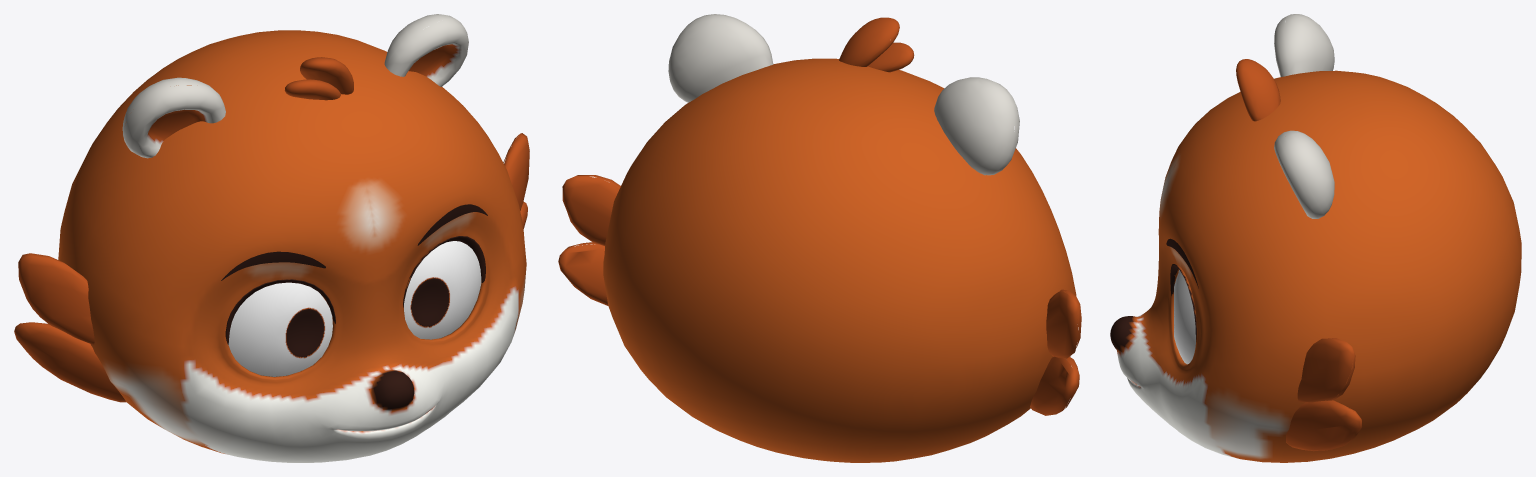
Rendered from redpanda_head.glb.
The picture shows the model from 3 angles, left to right: view 1: azimuth 30°, elevation 25°; view 2: azimuth 150°, elevation 25°; view 3: azimuth 270°, elevation 25°; orthographic projection. The views are drawn at different scales.
Visible parts, largest first — view 1: head_geo.002, tufts_geo, ears_geo, hair_geo; view 2: head_geo.002, ears_geo, tufts_geo, hair_geo; view 3: head_geo.002, ears_geo, tufts_geo, hair_geo.
Part boxes in pixels (x1,y1,x2,y2): head_geo.002: [58, 30, 526, 462]; tufts_geo: [14, 133, 529, 402]; ears_geo: [122, 14, 468, 158]; hair_geo: [284, 57, 353, 100]; head_geo.002: [603, 58, 1077, 462]; ears_geo: [668, 14, 1019, 175]; tufts_geo: [558, 175, 1081, 415]; hair_geo: [839, 17, 914, 72]; head_geo.002: [1110, 70, 1521, 462]; ears_geo: [1274, 14, 1334, 218]; tufts_geo: [1286, 338, 1361, 451]; hair_geo: [1236, 59, 1280, 121].
Size of the model in its own units: 0.9233 by 0.6816 by 0.6915.
Materials: 2 (2 with a texture image).
